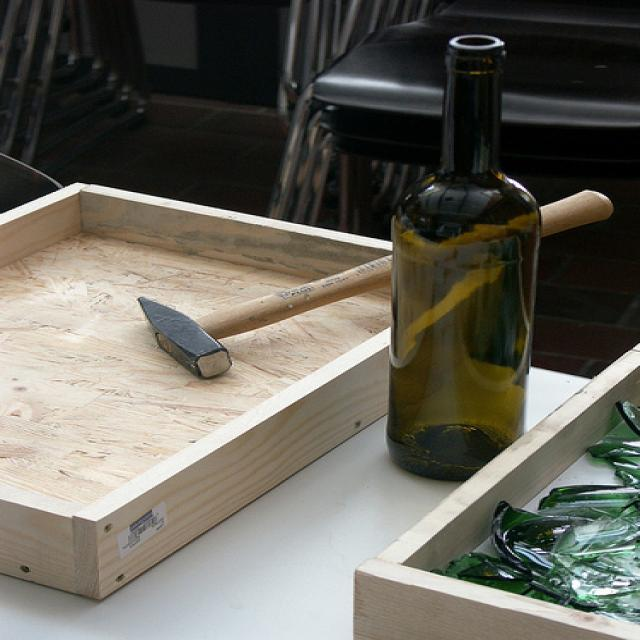hammer: (116, 184, 627, 390)
